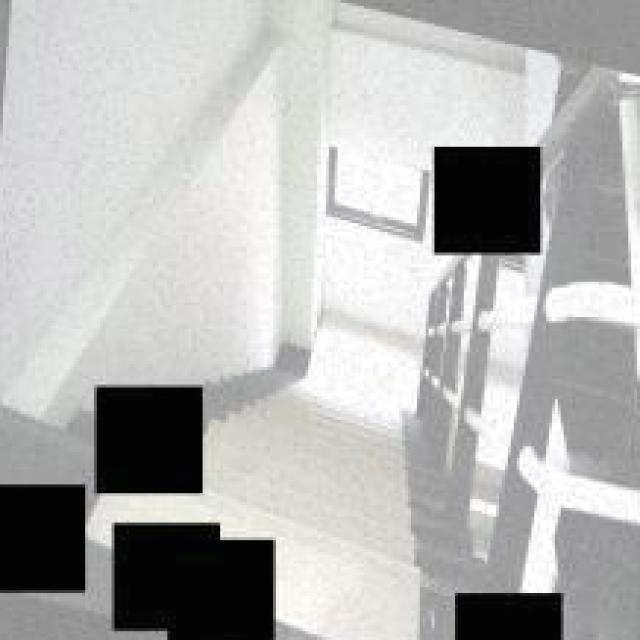downstair: (283, 371, 444, 640)
